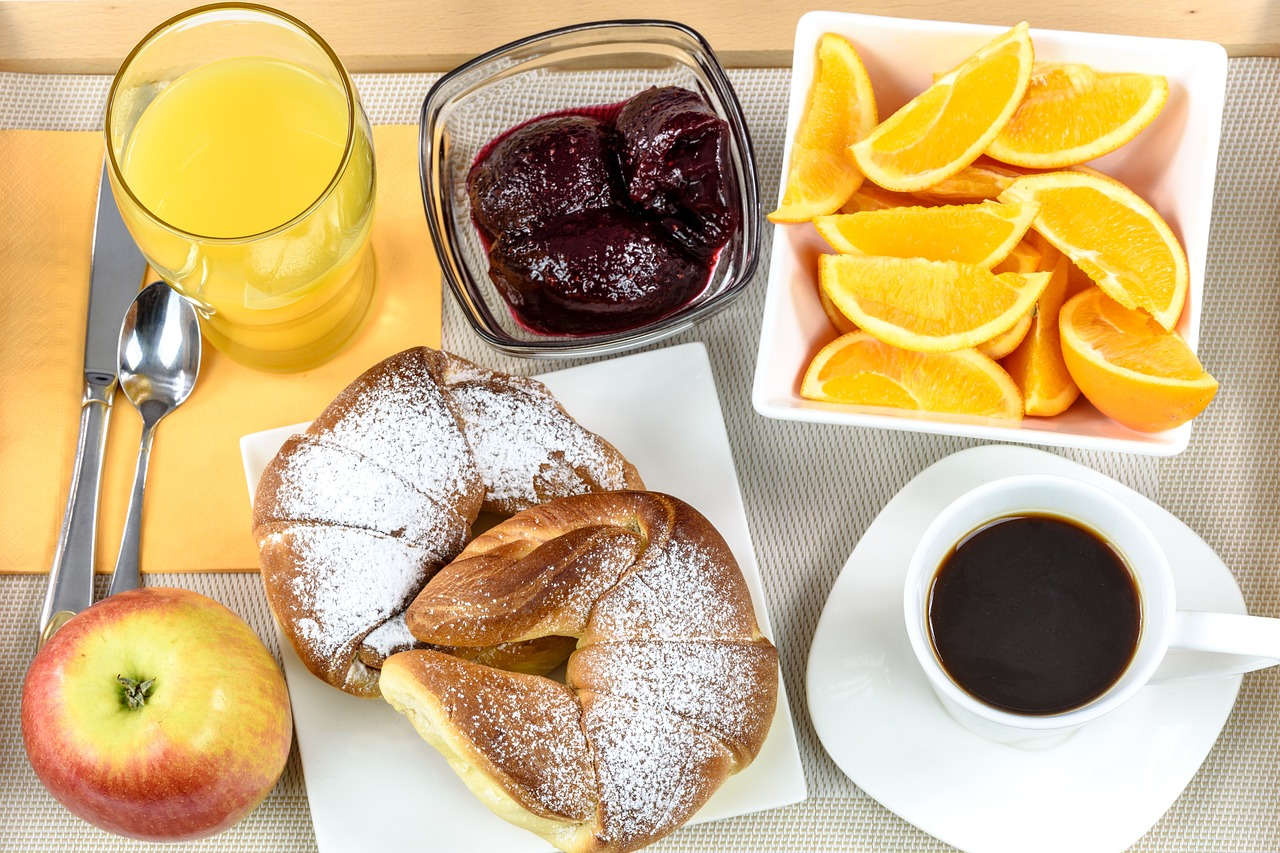knife: (31, 115, 150, 664)
